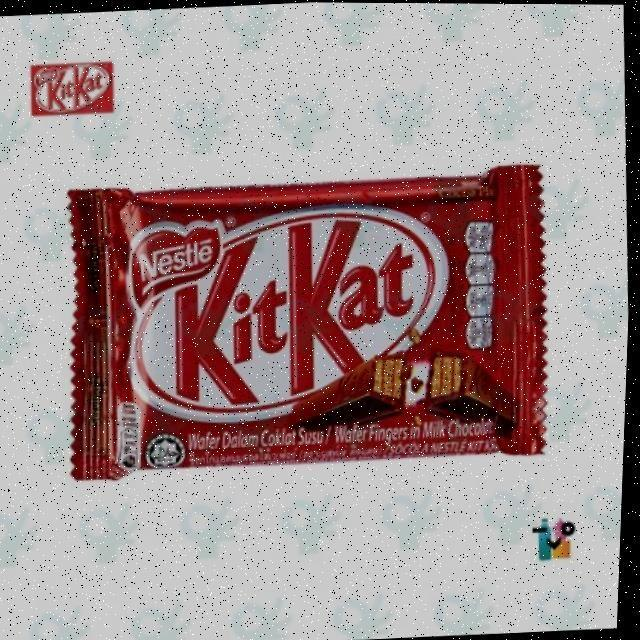kitkat_chocolate: (60, 167, 562, 498)
